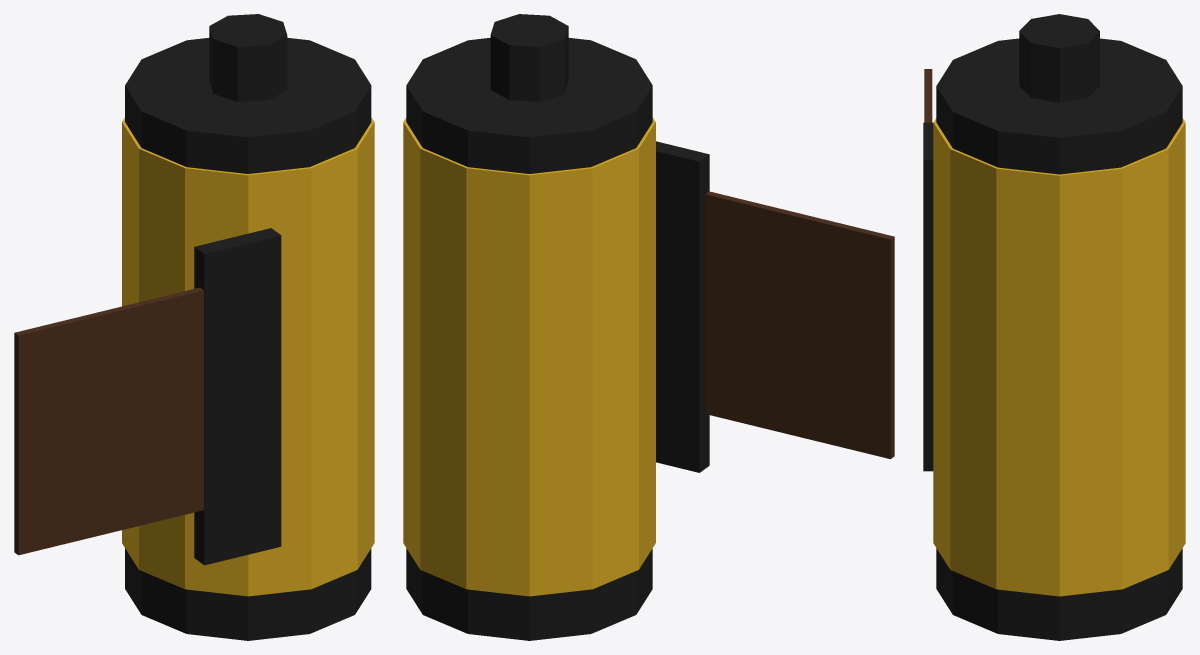
Rendered from film_roll.glb.
3 views of the same model, side by side, from view 1: azimuth 30°, elevation 25°; view 2: azimuth 150°, elevation 25°; view 3: azimuth 270°, elevation 25° (orthographic).
Visible parts, largest first — view 1: FilmRoll; view 2: FilmRoll; view 3: FilmRoll.
Part boxes in pixels (x1,y1,x2,y2): FilmRoll: (14,14,374,640); FilmRoll: (403,14,894,640); FilmRoll: (923,14,1185,640).
Bounding box in the file's own units: 0.0465 × 0.061 × 0.026.
